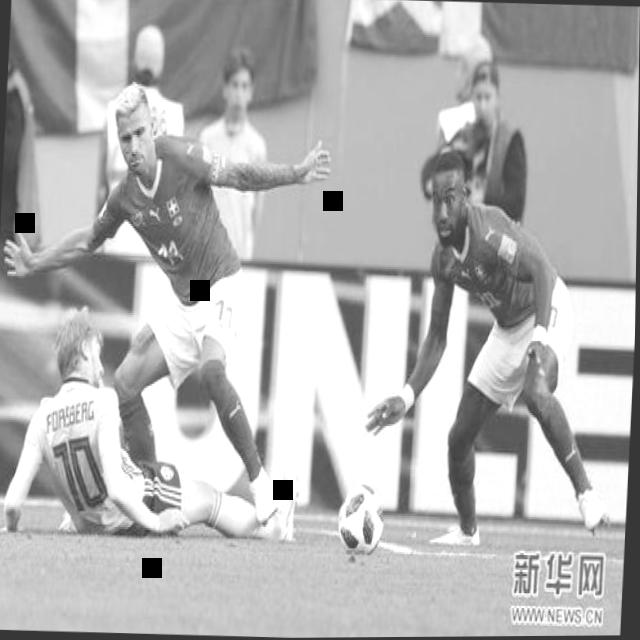Fall-Detected: (0, 294, 312, 544)
